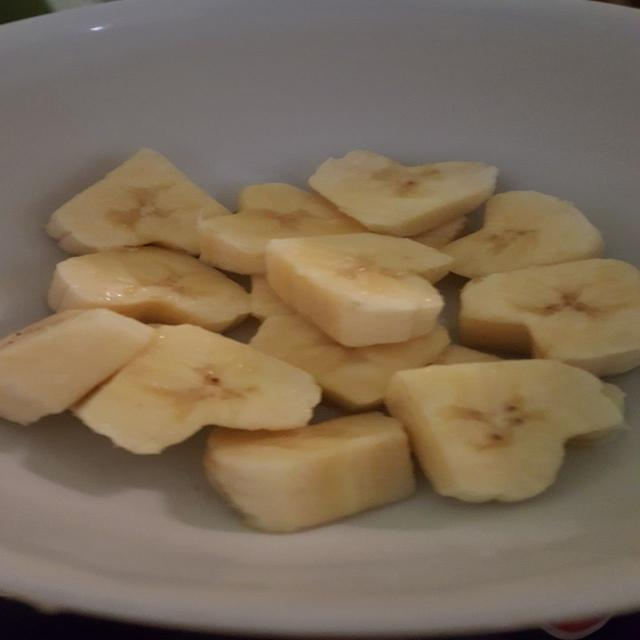banana slice: (387, 360, 623, 501), (73, 325, 320, 453), (205, 413, 415, 532), (460, 259, 639, 375), (267, 233, 450, 346), (47, 149, 230, 254), (251, 314, 449, 410), (0, 309, 154, 424), (48, 247, 249, 331), (309, 151, 497, 235), (200, 184, 366, 274), (444, 191, 603, 277), (568, 383, 627, 446), (251, 276, 294, 319), (412, 216, 468, 249), (433, 345, 502, 364)
